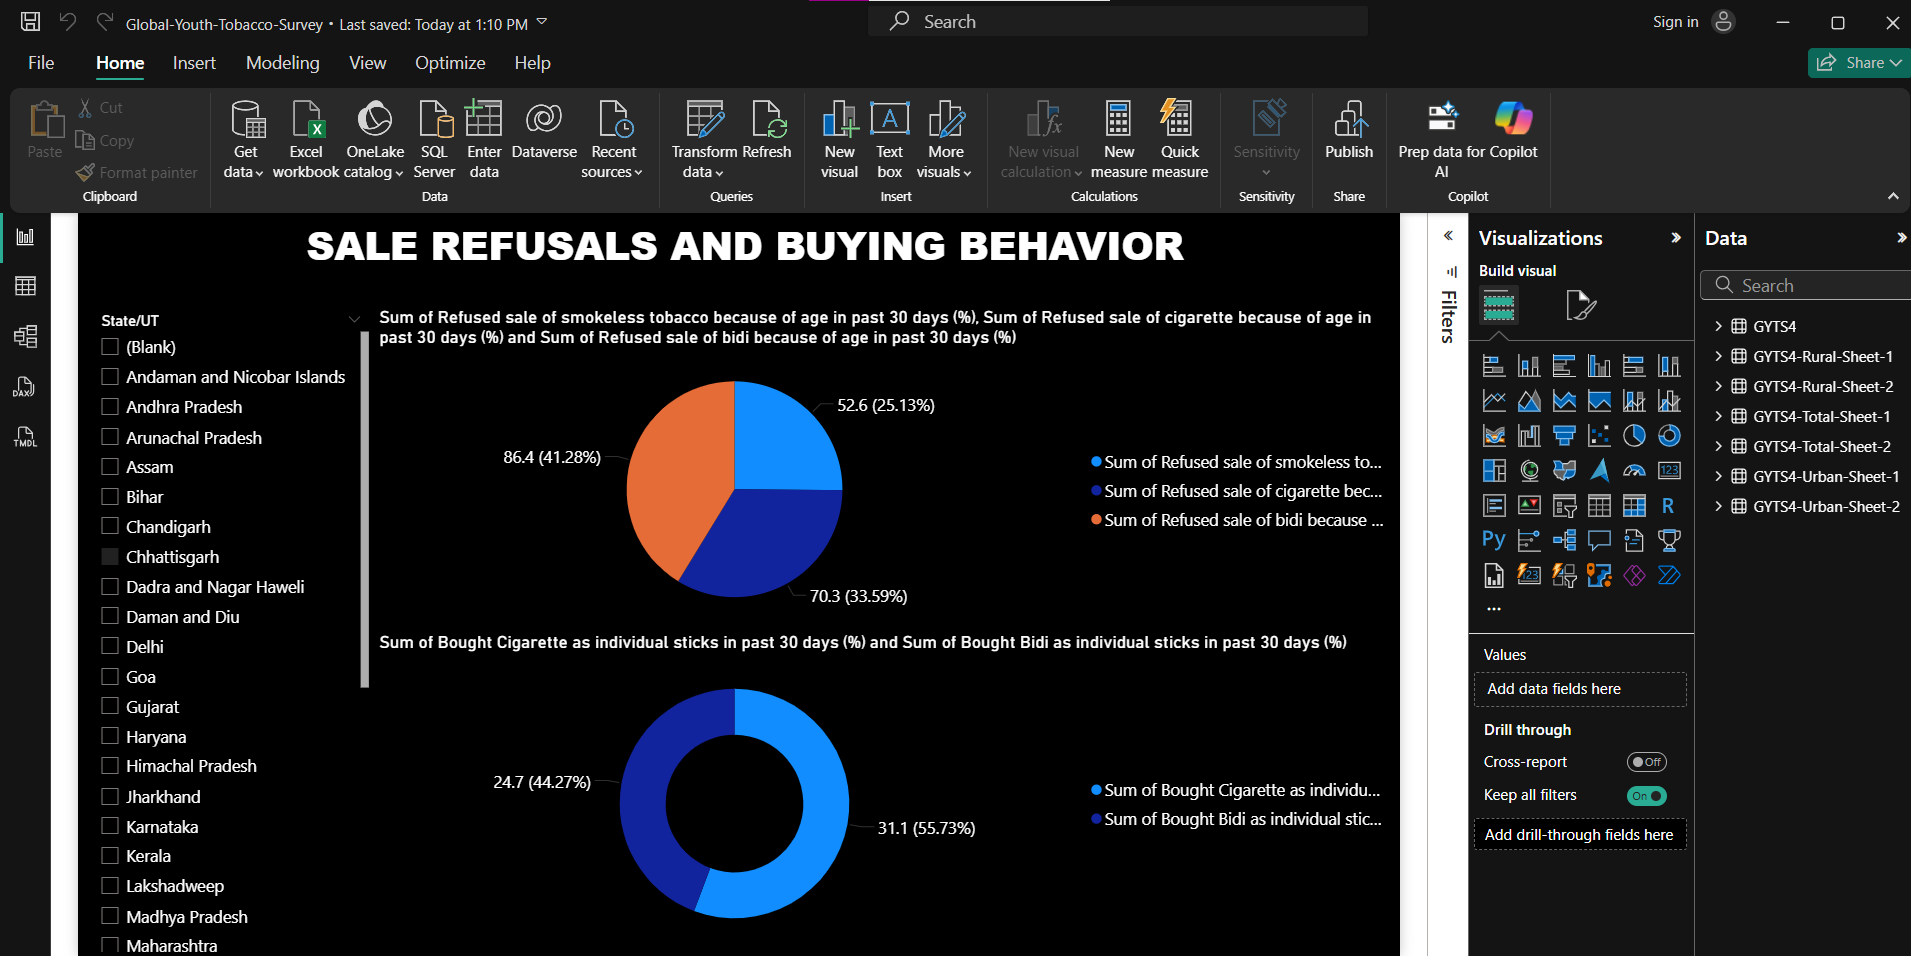

Layout of this report page (visuals, bound fields, positions):
{"tool":"powerbi","page":{"name":"Page 5","canvas":[1280,720],"ordinal":4},"visuals":[{"type":"textbox","box":[10.4,0,1269.9,74.3],"z":0},{"type":"slicer","fields":{"Values":["GYTS4-Total-Sheet-1.State/UT"]},"box":[9.9,90.5,277.3,629.5],"z":1000},{"type":"pieChart","fields":{"Y":["Sum(GYTS4-Total-Sheet-1.Refused sale of smokeless tobacco because of age in past 30 days    (%))","Sum(GYTS4-Total-Sheet-1.Refused sale of cigarette because of age in past 30 days   (%))","Sum(GYTS4-Total-Sheet-1.Refused sale of bidi because of age in past 30 days   (%))"]},"box":[287.2,90.5,993.1,315.5],"z":2000},{"type":"donutChart","fields":{"Y":["Sum(GYTS4-Total-Sheet-1.Bought Cigarette as individual sticks in past 30 days    (%))","Sum(GYTS4-Total-Sheet-1.Bought Bidi as individual sticks in past 30 days     (%))"]},"box":[287.2,406,993.1,314.1],"z":3000}]}

Visuals, with their boxes on the page's 1280x720 design canvas (x1, y1, x2, y2). These are canvas units, not pixel positions in the 1911x956 screenshot, which may show the page scaled, cropped or inside an application window:
textbox: <region>10, 0, 1280, 74</region>
slicer - GYTS4-Total-Sheet-1.State/UT: <region>10, 90, 287, 720</region>
pieChart - Sum(GYTS4-Total-Sheet-1.Refused sale of smokeless tobacco because of age in past 30 days    (%)) x Sum(GYTS4-Total-Sheet-1.Refused sale of cigarette because of age in past 30 days   (%)): <region>287, 90, 1280, 406</region>
donutChart - Sum(GYTS4-Total-Sheet-1.Bought Cigarette as individual sticks in past 30 days    (%)) x Sum(GYTS4-Total-Sheet-1.Bought Bidi as individual sticks in past 30 days     (%)): <region>287, 406, 1280, 720</region>
